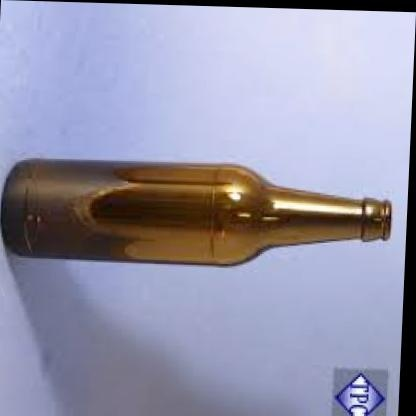trash: (1, 159, 390, 264)
